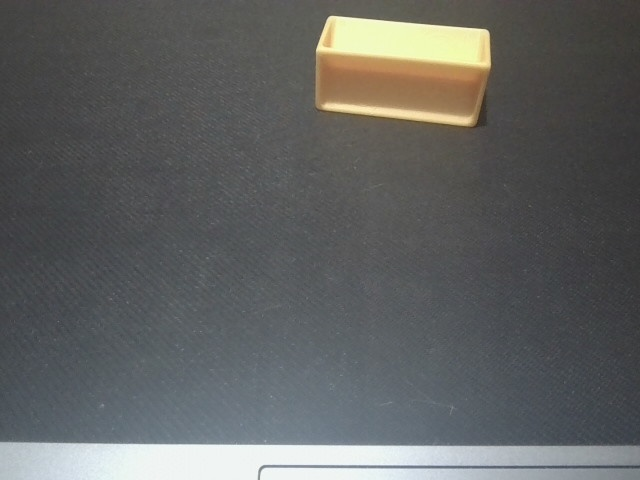YellowSample: (308, 10, 498, 132)
